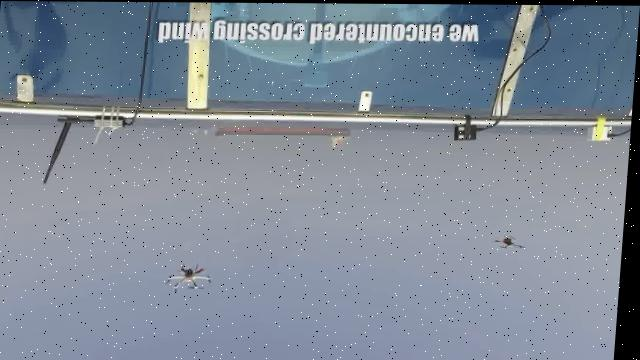drone: (495, 232, 530, 252)
